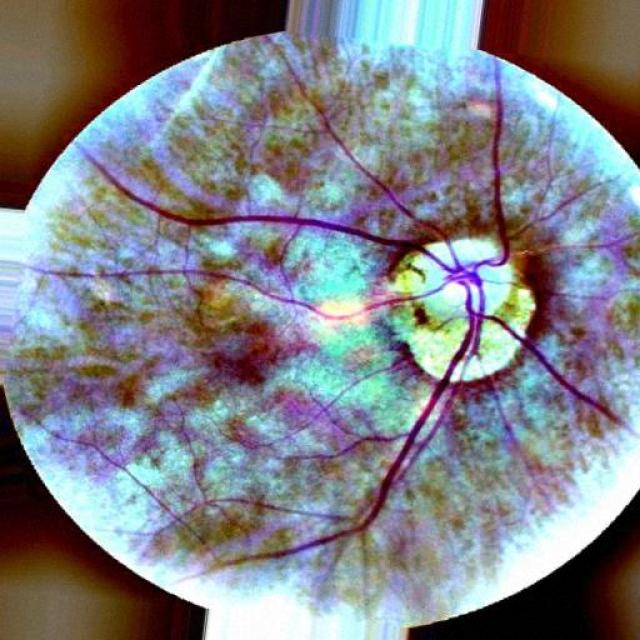Macula: (201, 315, 282, 383)
Nerves: (76, 142, 453, 277), (363, 283, 479, 526), (457, 72, 513, 279)
Optic Disk: (397, 242, 537, 382)
